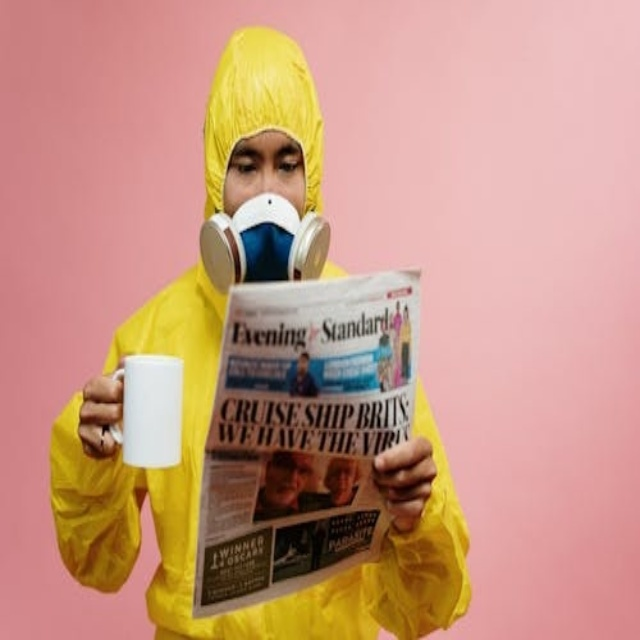Mascara: (200, 192, 332, 281)
Sin_gafas: (227, 140, 303, 186)
Sin_guantes: (370, 435, 436, 535), (78, 368, 125, 459)
